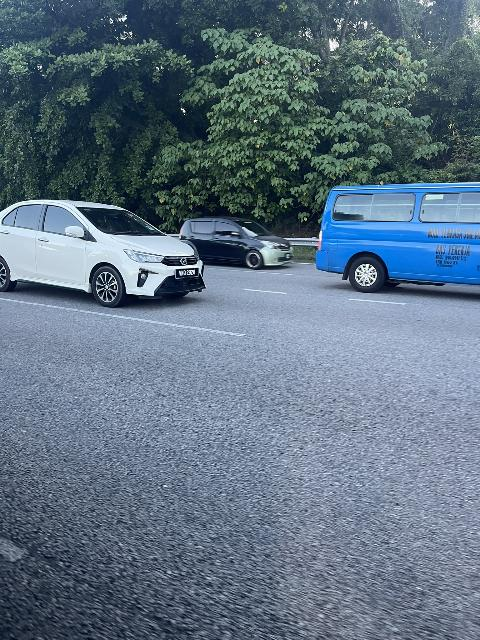License_Plate: (174, 268, 202, 280)
car: (2, 199, 209, 322), (308, 182, 480, 297)
